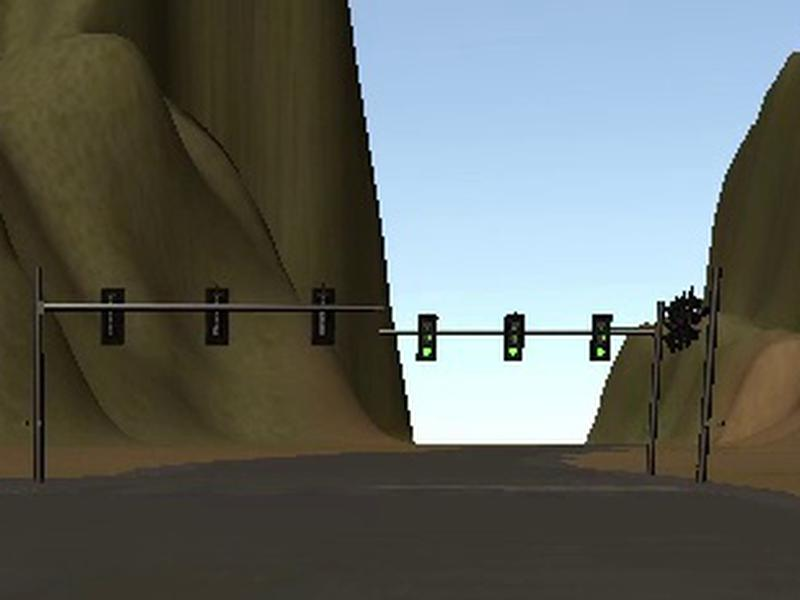Green: (589, 314, 612, 361), (415, 313, 437, 360), (505, 314, 524, 360)
